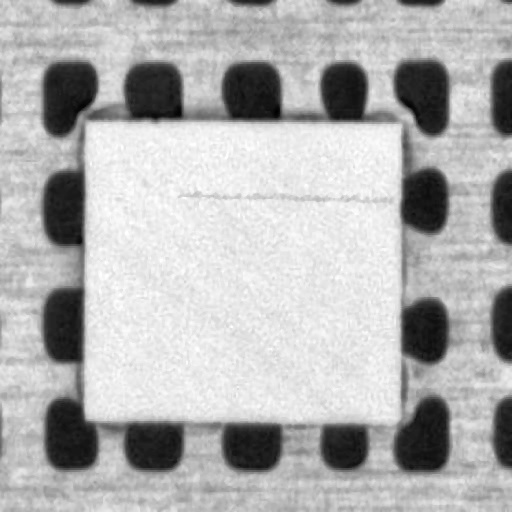DIE_CRACK: (176, 182, 392, 204)
